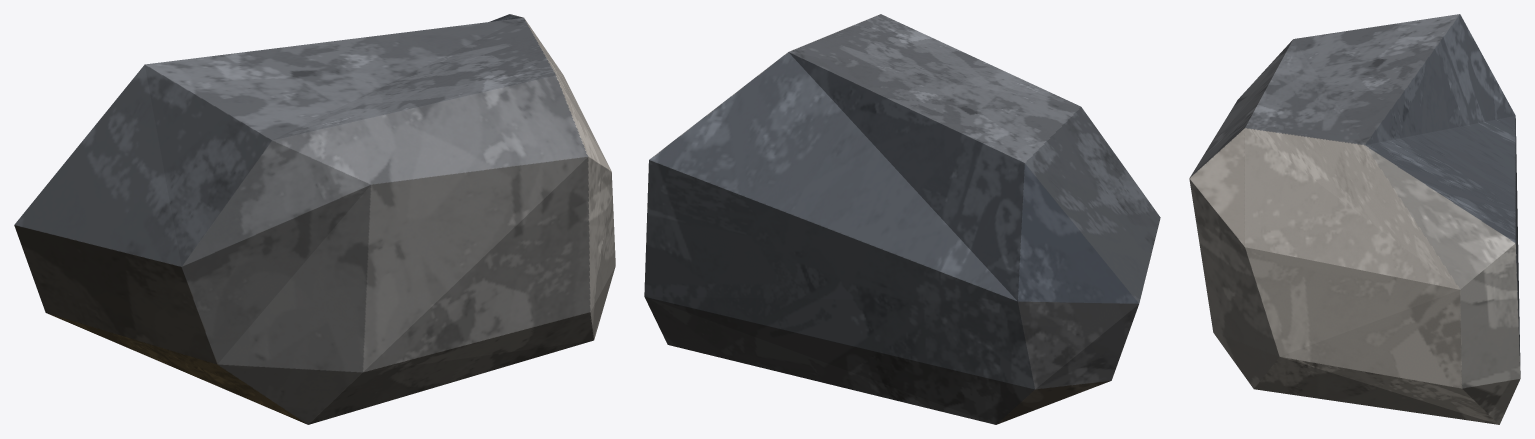
Rendered from RockLM1.obj.
3 views of the same model, side by side, from view 1: azimuth 30°, elevation 25°; view 2: azimuth 150°, elevation 25°; view 3: azimuth 270°, elevation 25° (orthographic). The views are drawn at different scales.
Visible parts, largest first — view 1: RockLM1; view 2: RockLM1; view 3: RockLM1.
Boxes of the visible parts, box(x1,y1,x2,y2) form: RockLM1: box(14, 14, 615, 424); RockLM1: box(644, 14, 1160, 424); RockLM1: box(1189, 14, 1520, 424).
Bounding box in the file's own units: 2 × 1.01 × 1.19.
